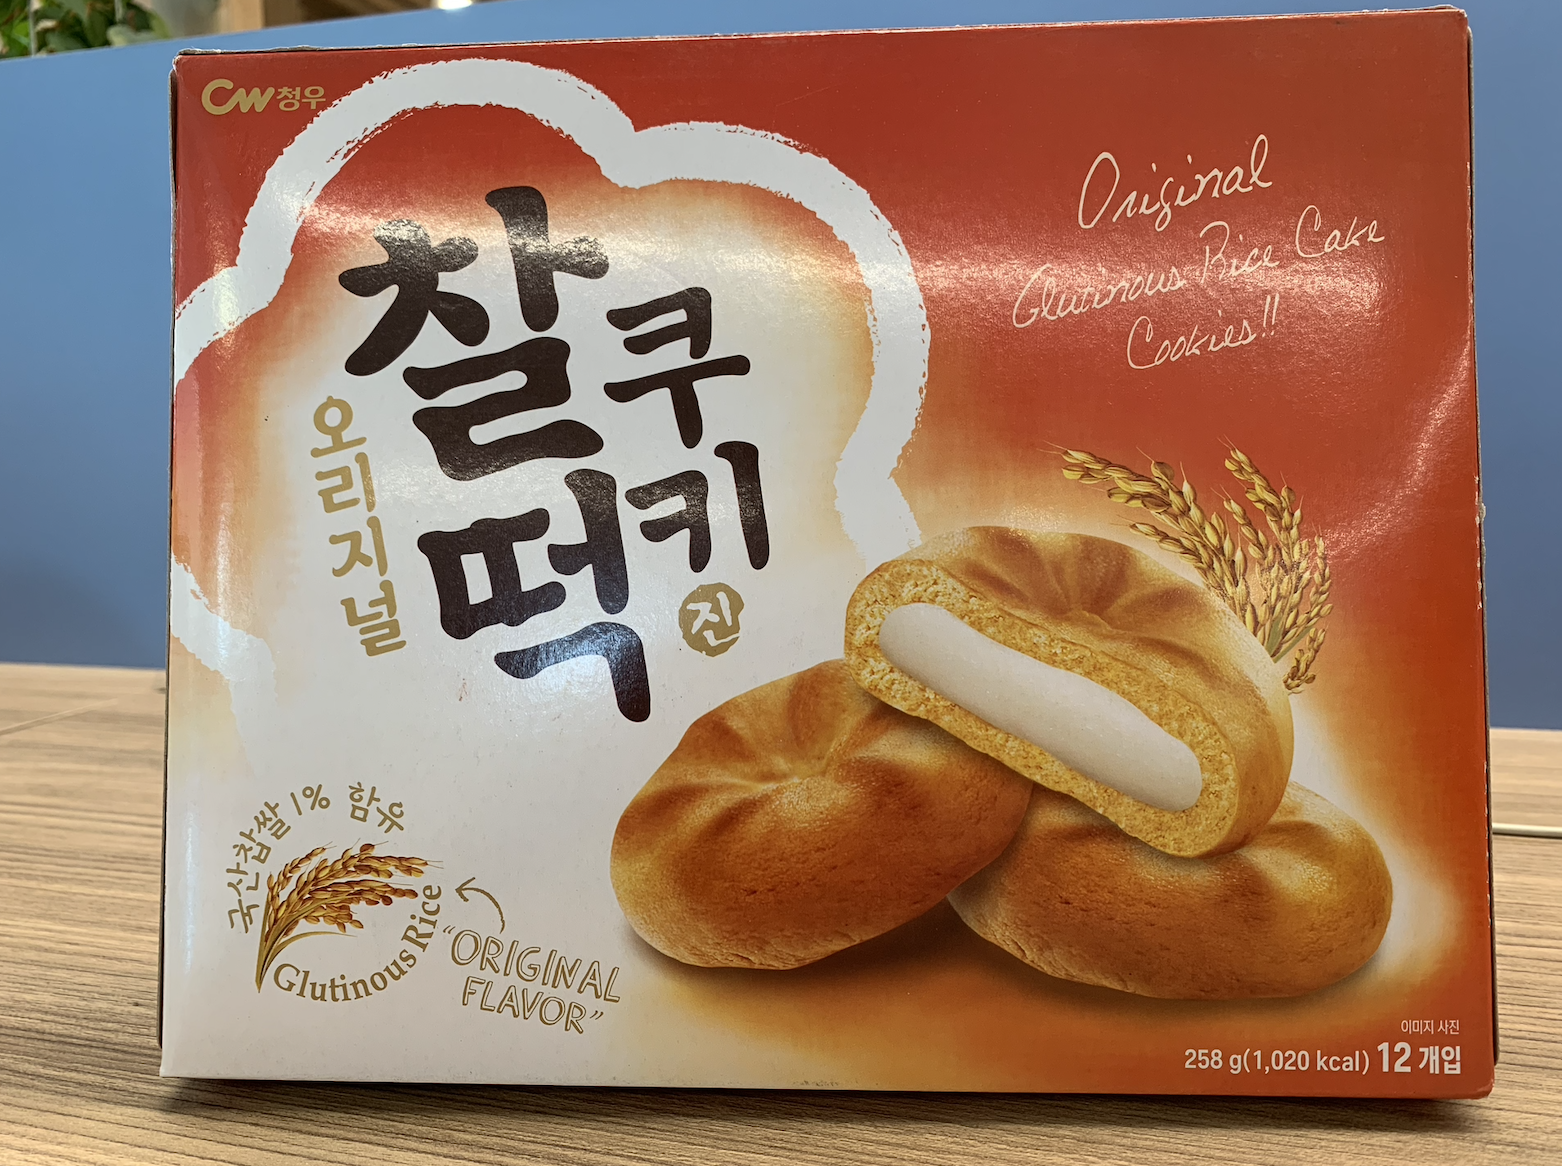cookies_150g: (191, 61, 1466, 1084)
